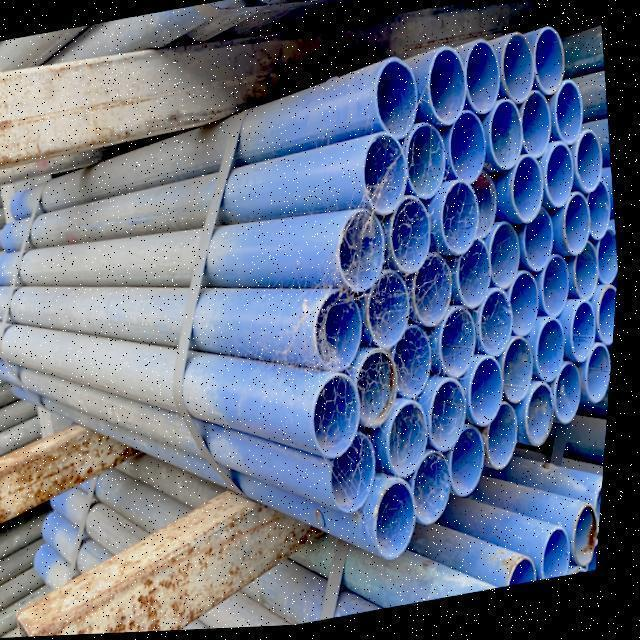pipe: (307, 366, 379, 468), (330, 206, 400, 304), (327, 425, 395, 523), (496, 29, 571, 115), (365, 55, 431, 152), (433, 180, 504, 266), (448, 39, 514, 129), (358, 133, 422, 225), (380, 403, 447, 490), (371, 479, 433, 570), (417, 45, 477, 139), (384, 197, 447, 285), (363, 271, 426, 357), (408, 452, 473, 532), (434, 306, 494, 392), (407, 256, 468, 338), (427, 377, 486, 461), (443, 430, 503, 512), (402, 124, 460, 205), (441, 112, 498, 193), (503, 154, 559, 235), (475, 288, 530, 369), (499, 335, 552, 419), (464, 357, 518, 438), (481, 403, 535, 484), (453, 238, 507, 317), (485, 101, 539, 180), (565, 288, 613, 376), (557, 188, 606, 268), (517, 90, 568, 166), (486, 220, 534, 300), (505, 271, 553, 349), (518, 208, 567, 283), (524, 383, 571, 459), (539, 251, 584, 329), (569, 131, 614, 206), (549, 83, 594, 158), (534, 318, 578, 392), (552, 362, 597, 433), (547, 522, 596, 586), (583, 182, 623, 254), (581, 344, 619, 417), (571, 508, 609, 577), (571, 244, 609, 310), (594, 285, 623, 365), (595, 230, 626, 299), (507, 553, 552, 593), (595, 478, 611, 548)
